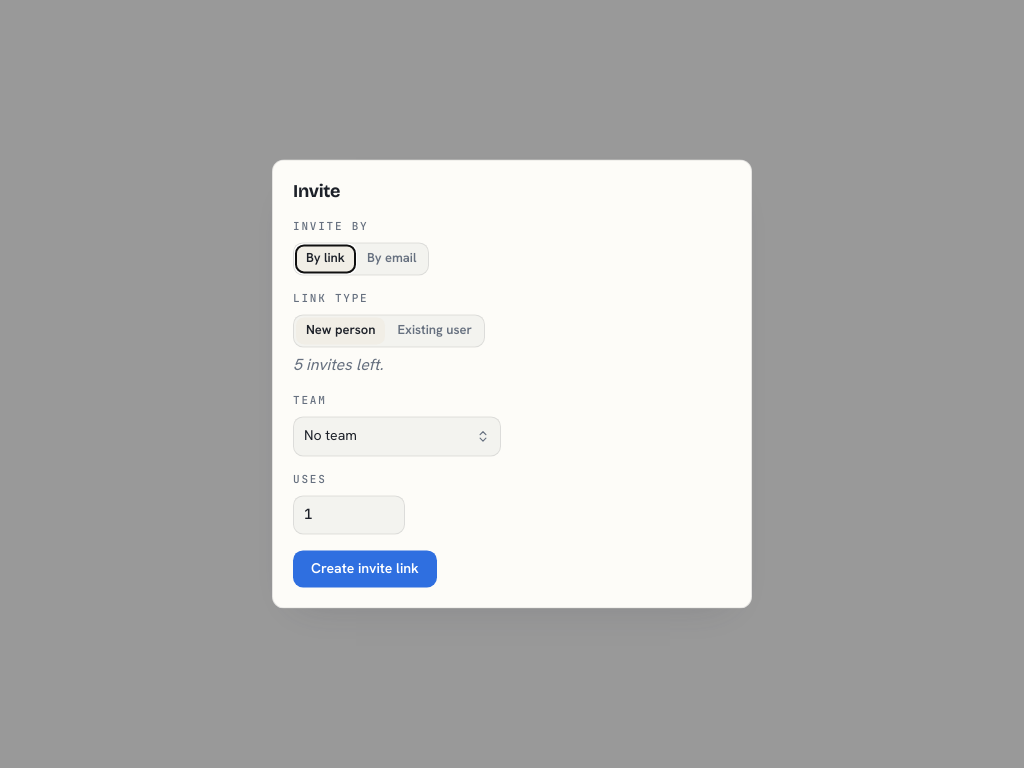
Test: InviteDialog, By email › sends a team-less invite (null team and role) when no team is selected
Click the button "By email".
click(392, 259)  # box [357,245,426,272]
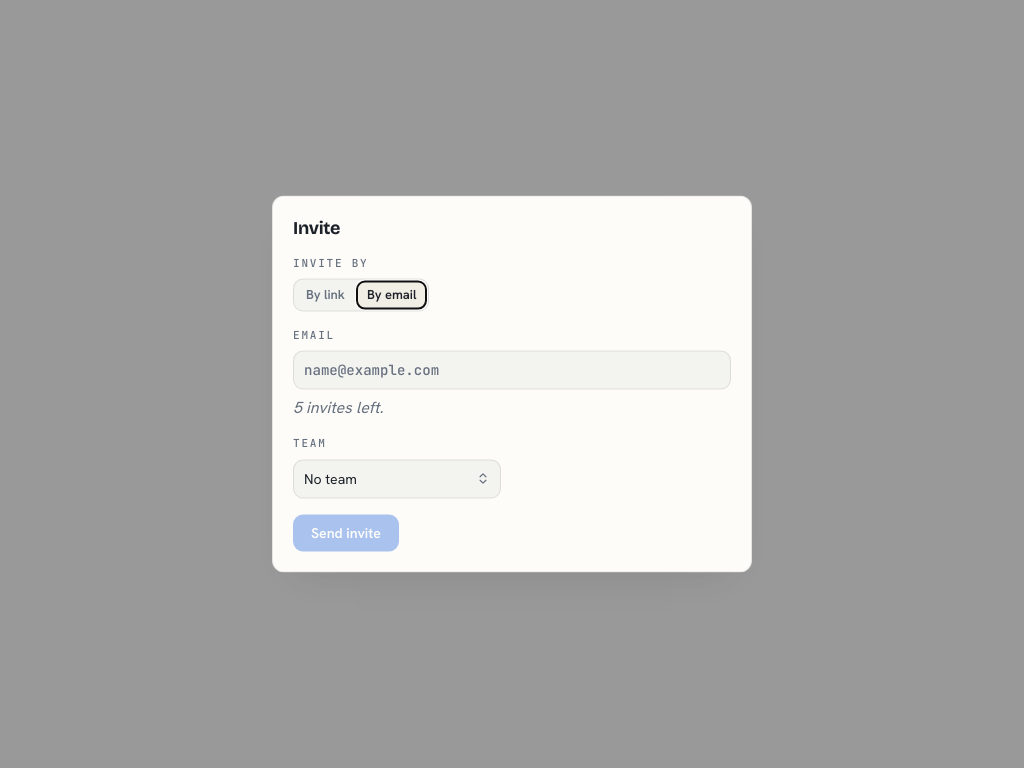
Type "newbie@example.test" into the field.
click(512, 370); type("newbie@example.test")  # box [293,351,731,390]
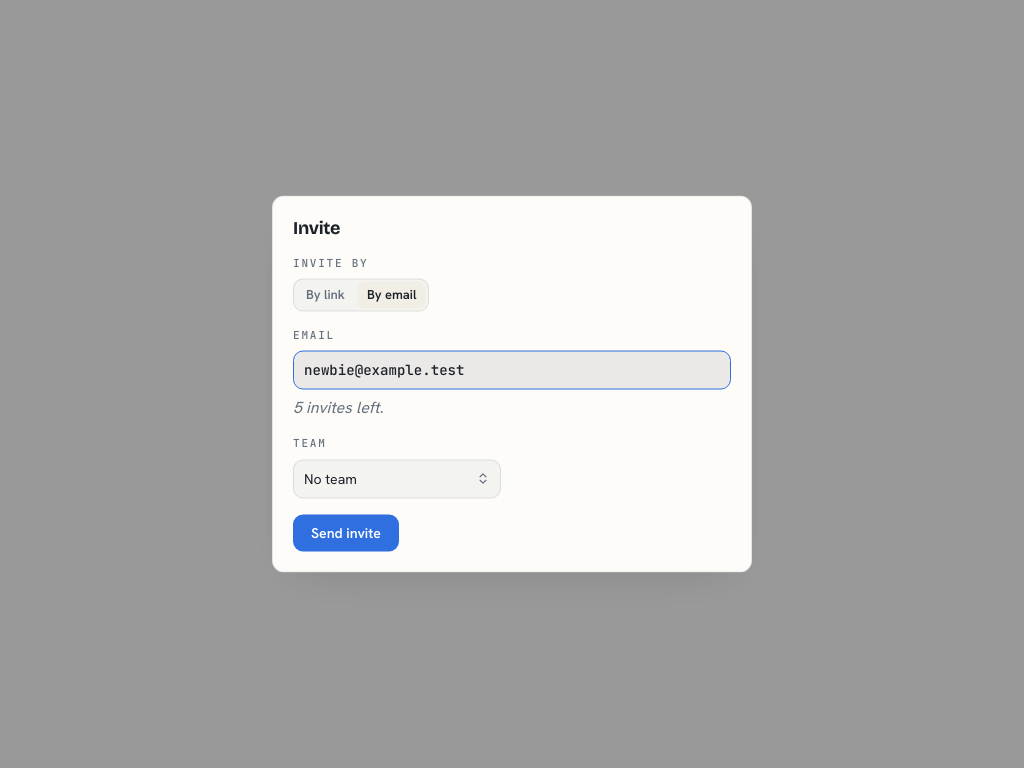
Now the button "Send invite" is enabled
Click the button "Send invite".
click(346, 533)  # box [293,514,399,552]
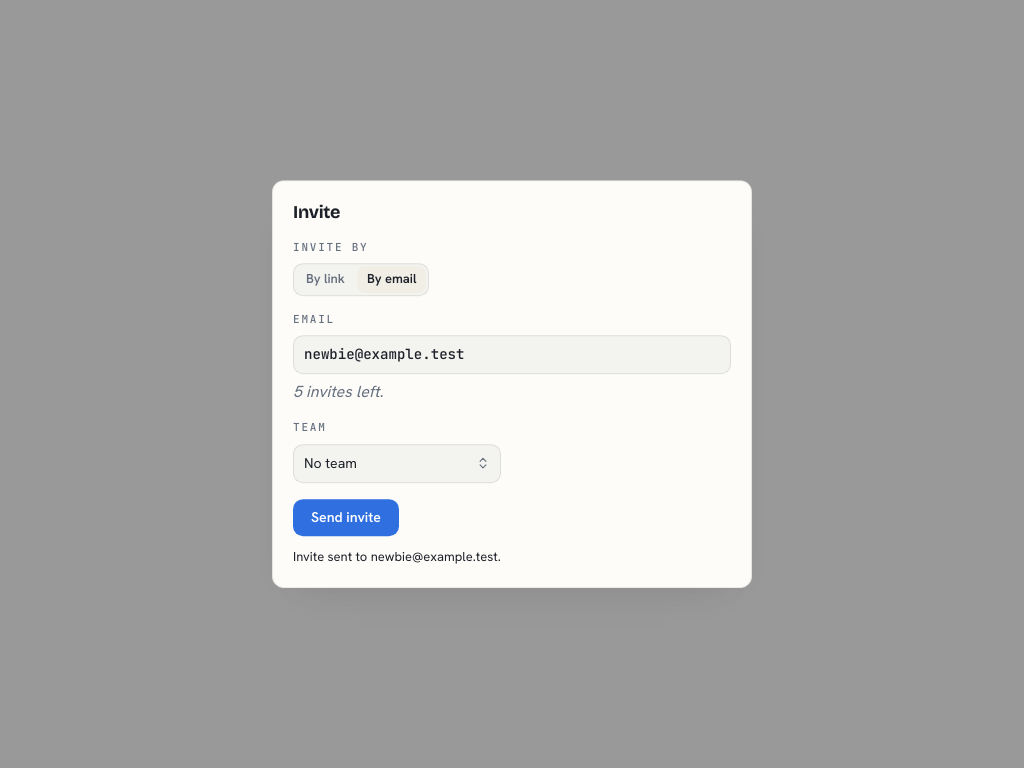
Now the text "Invite sent to newbie@example.test." is shown, box [293,548,501,565]
